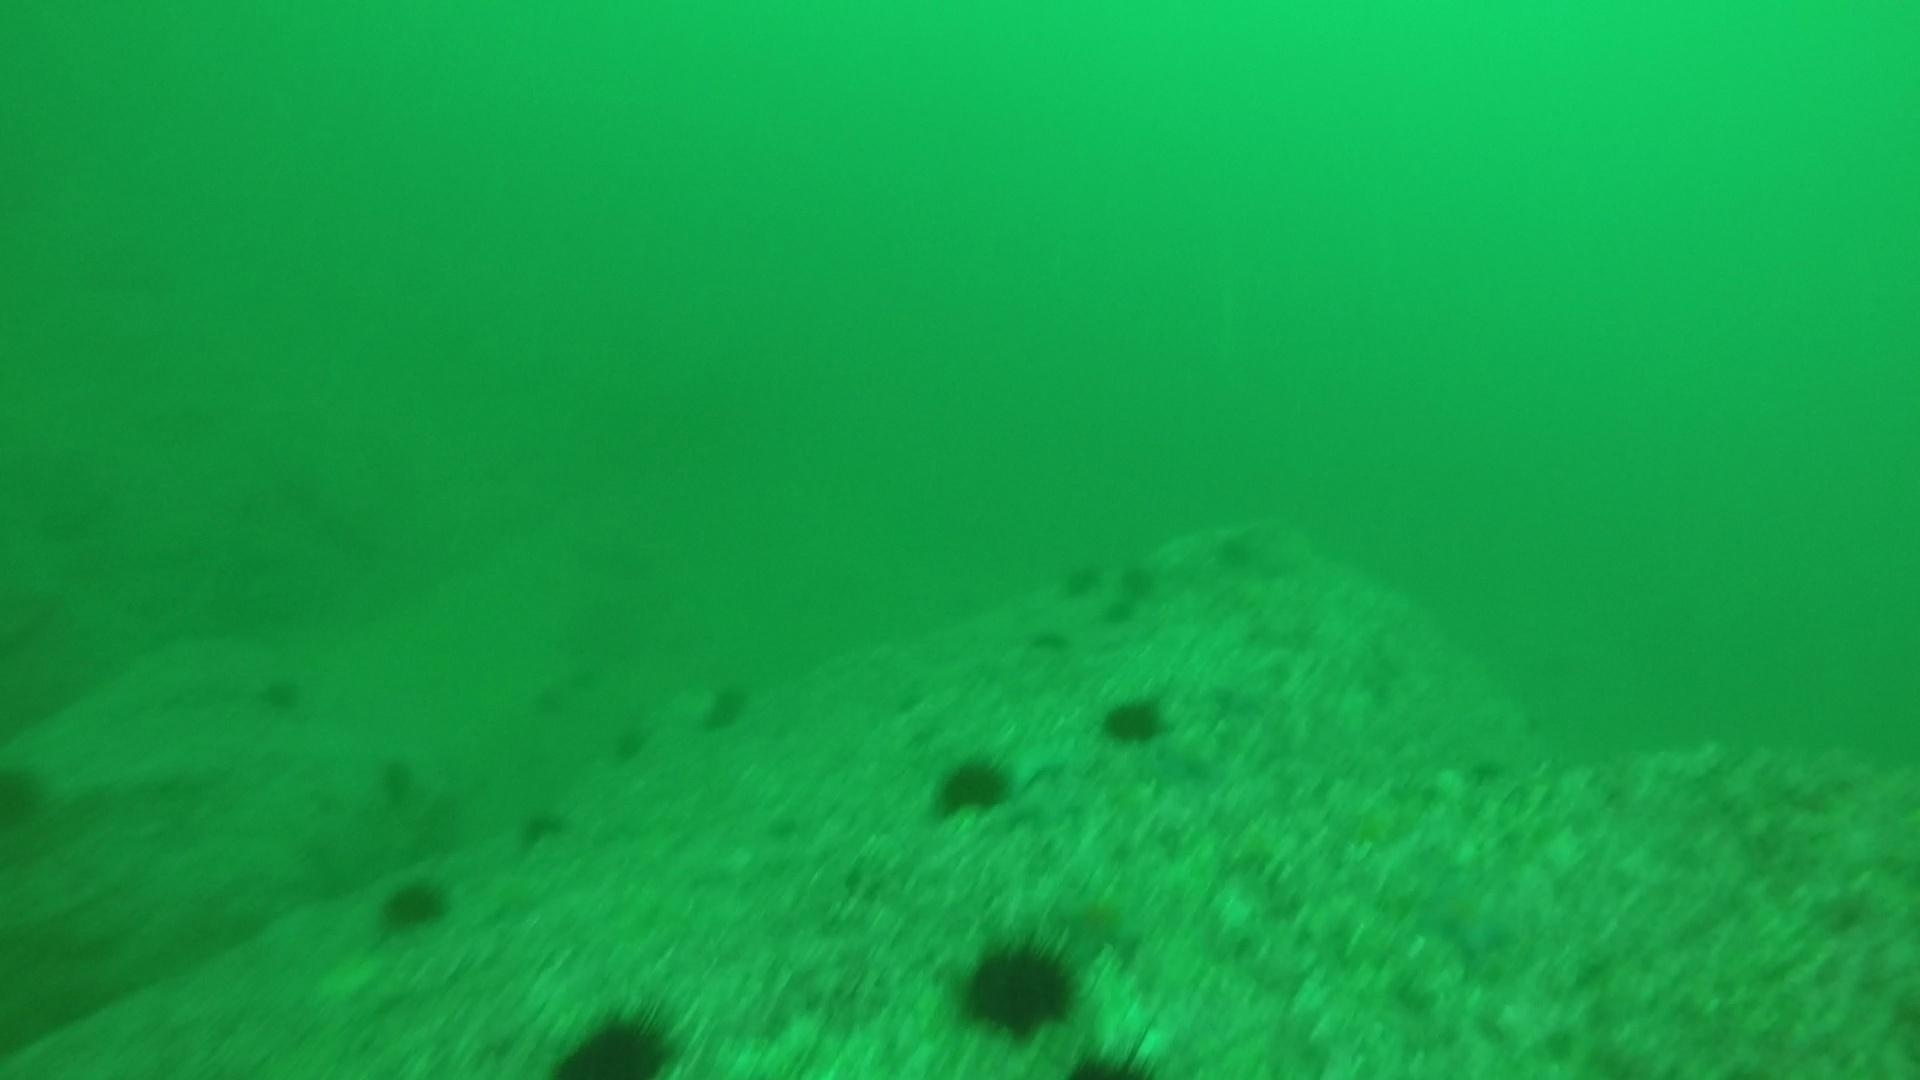echinus: (953, 931, 1083, 1043), (550, 1004, 680, 1076), (928, 748, 1017, 823), (1069, 1026, 1163, 1080), (375, 872, 452, 936), (1097, 690, 1170, 750), (1, 756, 50, 833), (698, 676, 753, 732), (1109, 558, 1159, 612), (255, 669, 309, 716), (373, 752, 421, 804), (517, 804, 568, 851), (1058, 556, 1102, 601), (609, 719, 651, 765), (525, 680, 567, 727)
starfish: (1414, 862, 1519, 963), (1051, 878, 1145, 961), (316, 953, 386, 1001)
